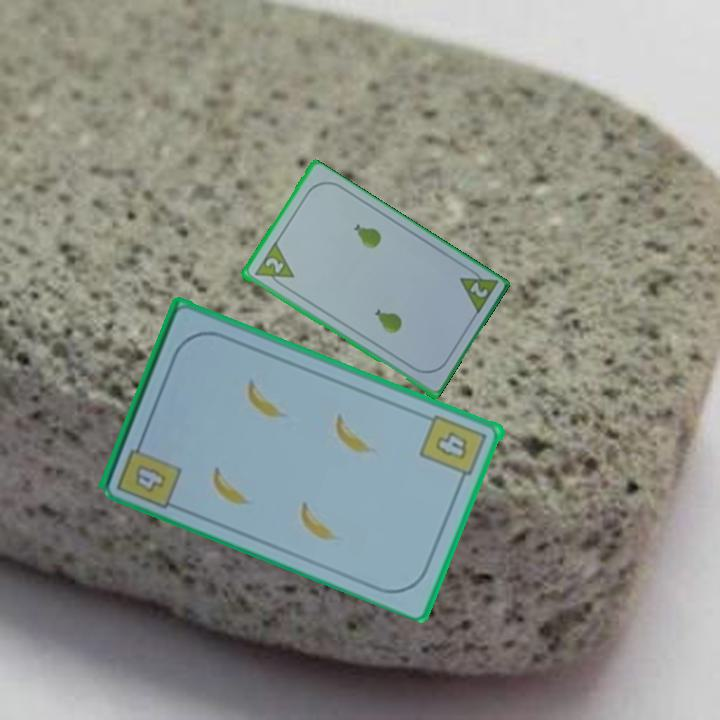2p: (261, 254, 286, 276), (466, 279, 491, 301)
4b: (113, 432, 185, 511), (417, 411, 491, 487)
